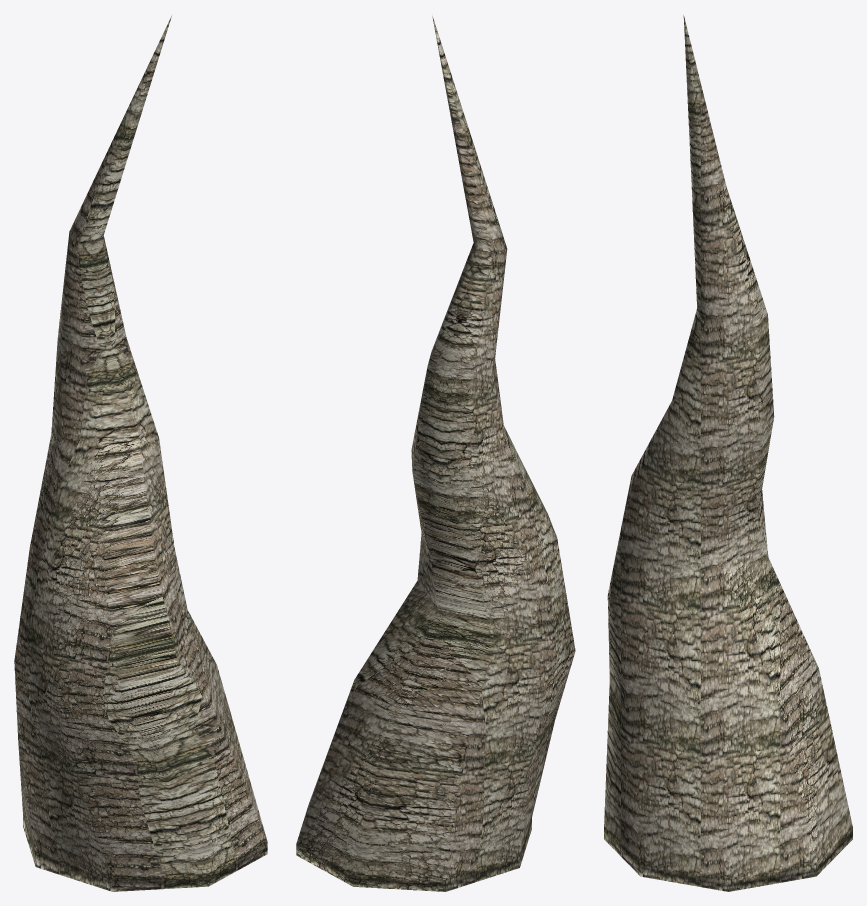
The picture shows the model from 3 angles, left to right: view 1: azimuth 30°, elevation 25°; view 2: azimuth 150°, elevation 25°; view 3: azimuth 270°, elevation 25°; orthographic projection. The views are drawn at different scales.
Parts seen in each view (by area): view 1: polySurface50; view 2: polySurface50; view 3: polySurface50.
Part boxes in pixels (x1=…): polySurface50: x1=14, y1=15, x2=267, y2=891; polySurface50: x1=296, y1=16, x2=575, y2=891; polySurface50: x1=604, y1=15, x2=852, y2=891.
Size of the model in its own units: 4960 by 16235 by 4426.
